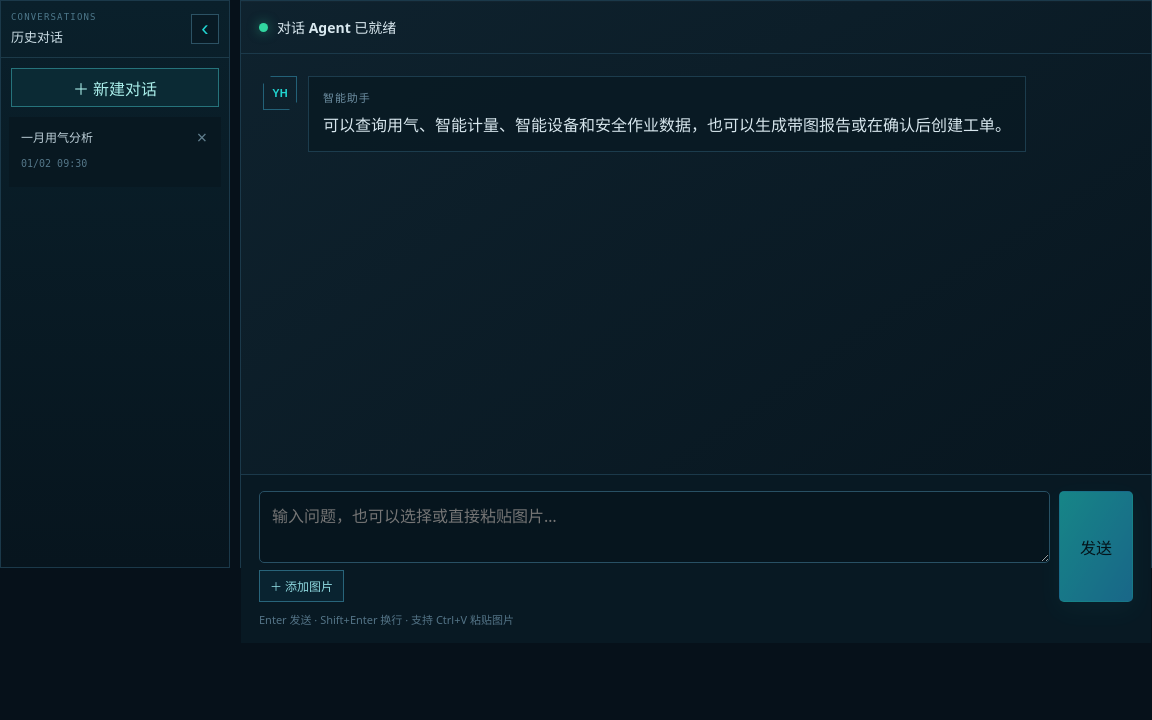
Test: 智能问答页面 › 可以恢复并永久删除当前用户的历史对话
Click the button "一月用气分析 01/02 09:30" at (115, 152), box [10,118,220,186]
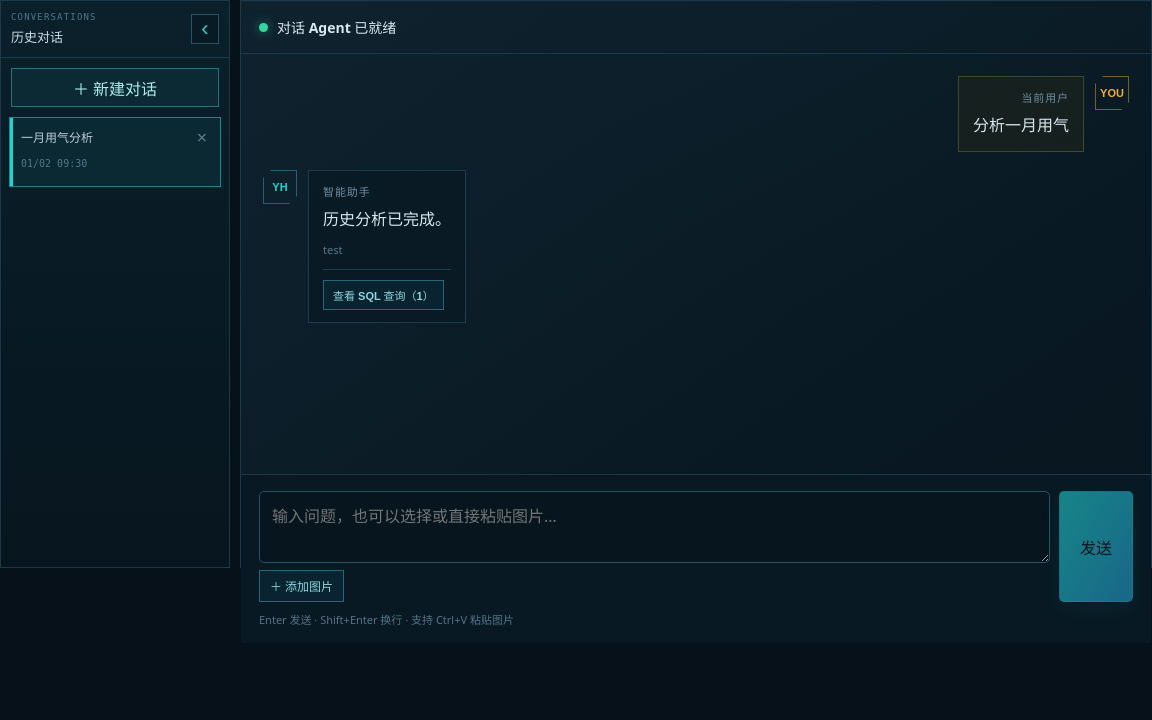
Now the text "历史分析已完成。" is shown, box [323,205,451,233]
Now the button "查看 SQL 查询（1）" is shown, box [323,280,444,310]
Click the button named "删除对话 一月用气分析" at (202, 137), box [190,125,214,149]
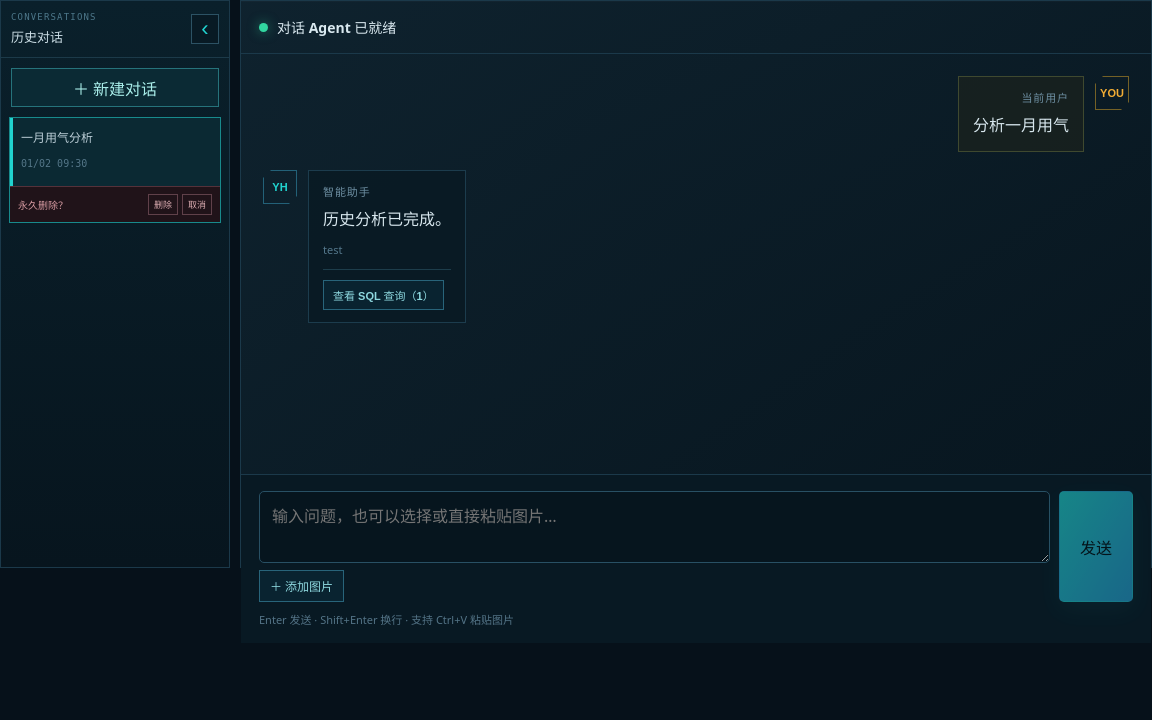
Click the button "删除" at (163, 204), box [148,194,178,215]
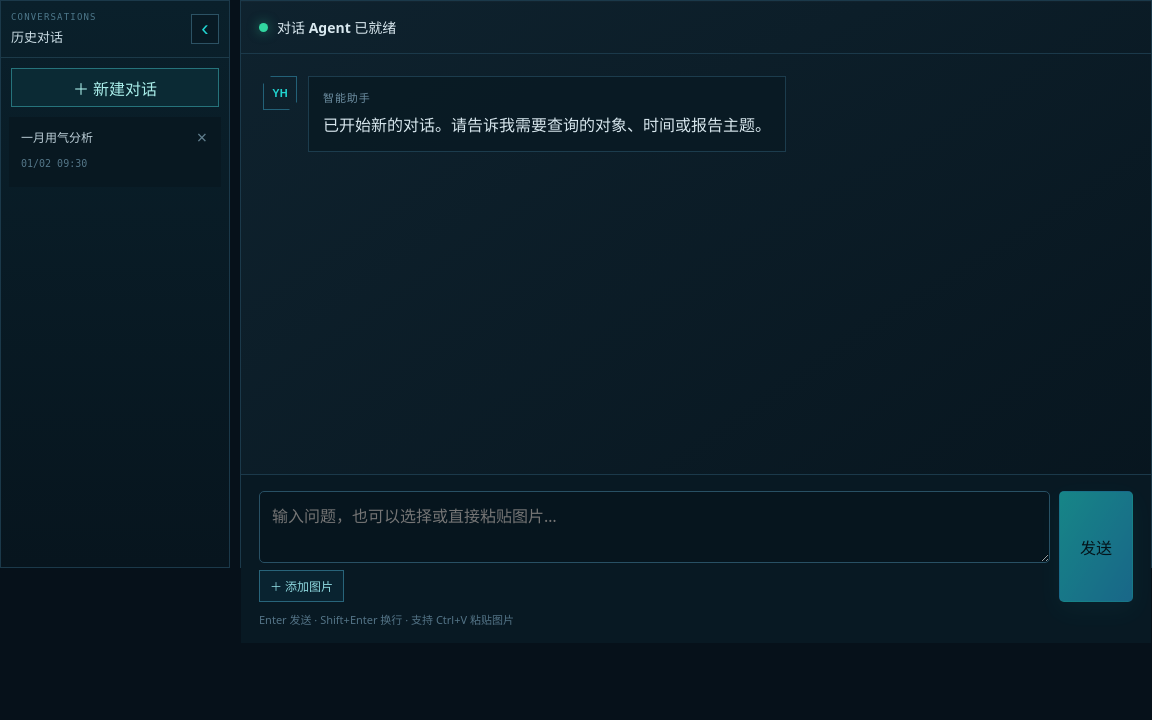
Now the text "已开始新的对话。请告诉我需要查询的对象、时间或报告主题。" is shown, box [323,111,771,139]
